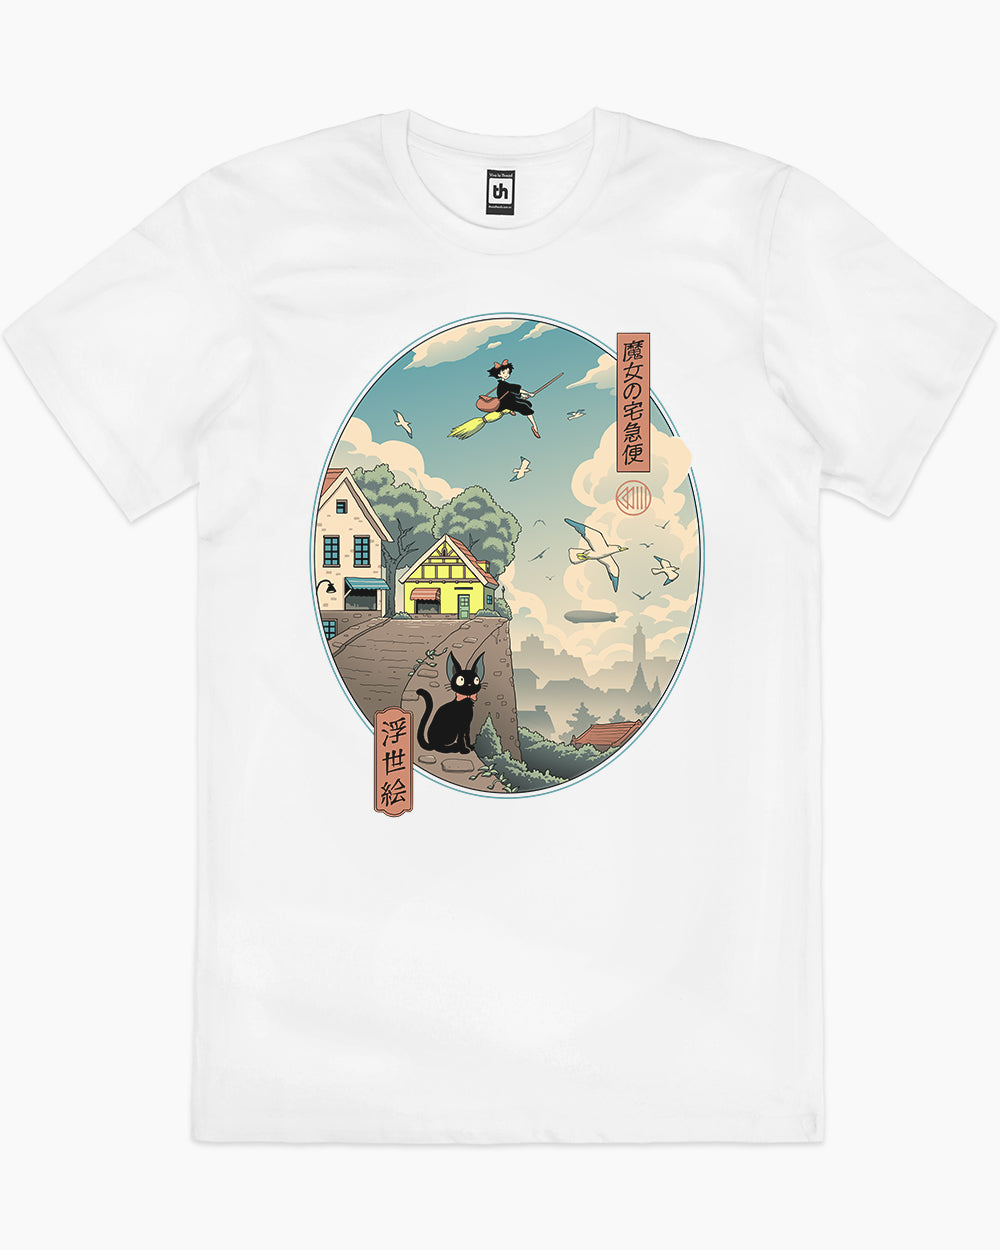design: (304, 306, 708, 822)
